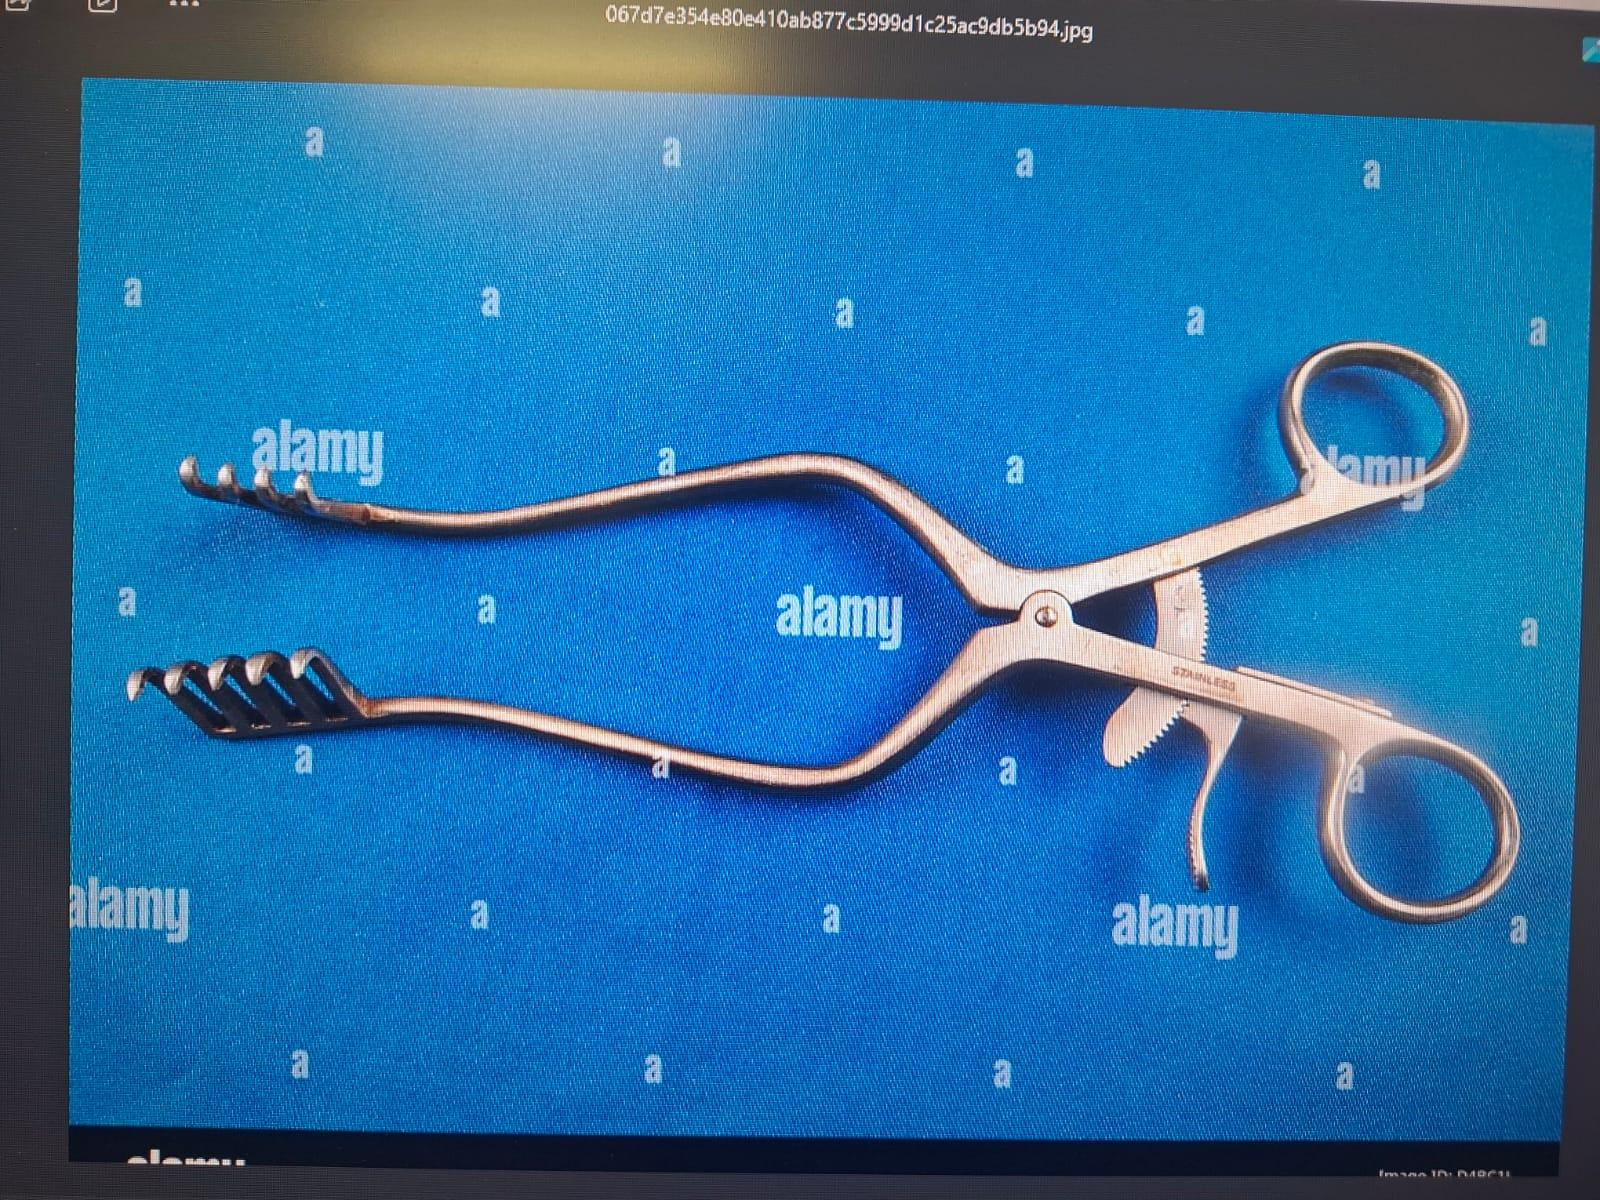Self Retractor: (122, 337, 1529, 930)
